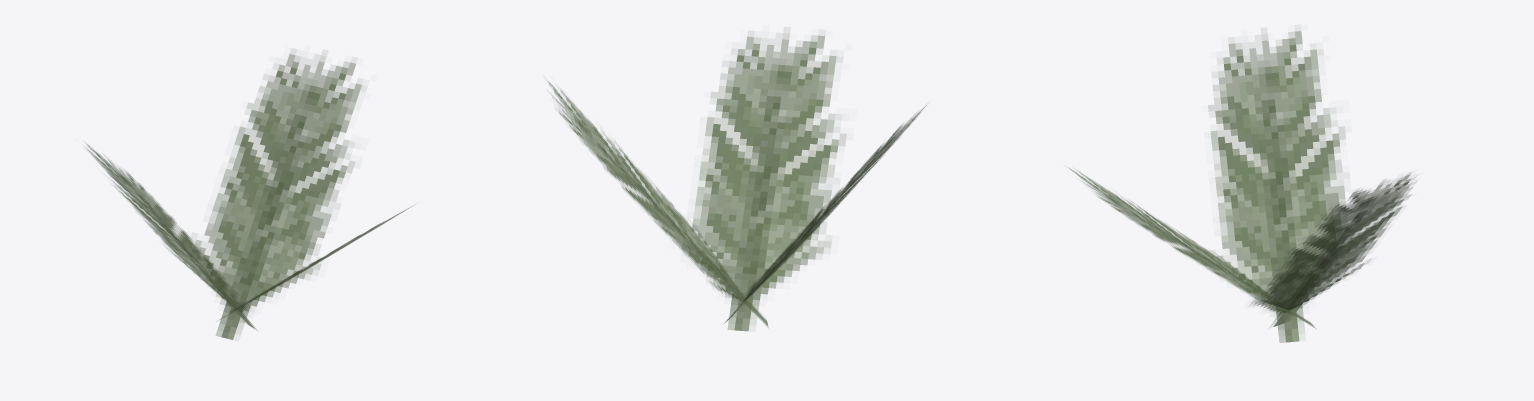
The model's file is grasstro_0.glb.
The picture shows the model from 3 angles, left to right: view 1: azimuth 30°, elevation 25°; view 2: azimuth 150°, elevation 25°; view 3: azimuth 270°, elevation 25°; orthographic projection. The views are drawn at different scales.
Parts seen in each view (by area): view 1: grasstro_0; view 2: grasstro_0; view 3: grasstro_0.
Boxes of the visible parts, x1,y1,x2,y2 form: grasstro_0: (85,48,415,339); grasstro_0: (544,27,926,331); grasstro_0: (1068,25,1415,342).
Bounding box in the file's own units: 1.42 × 0.867 × 1.6.
Materials: 1 (1 with a texture image).
